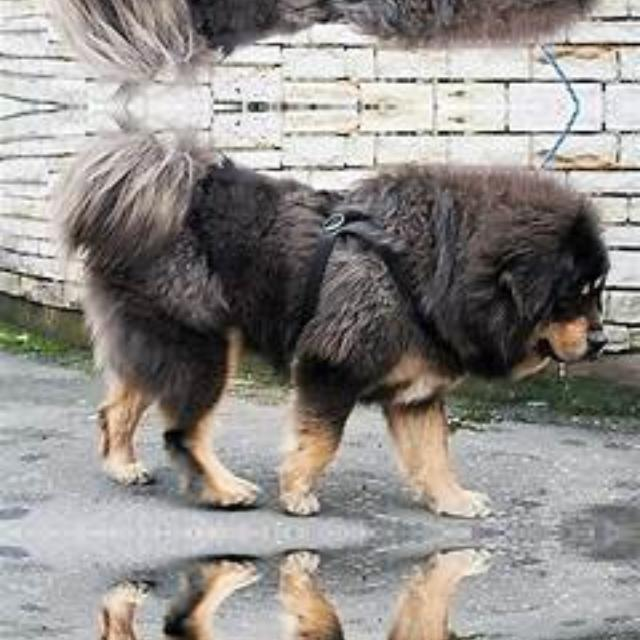dog: (70, 117, 638, 507), (69, 0, 638, 95), (69, 558, 638, 640)
